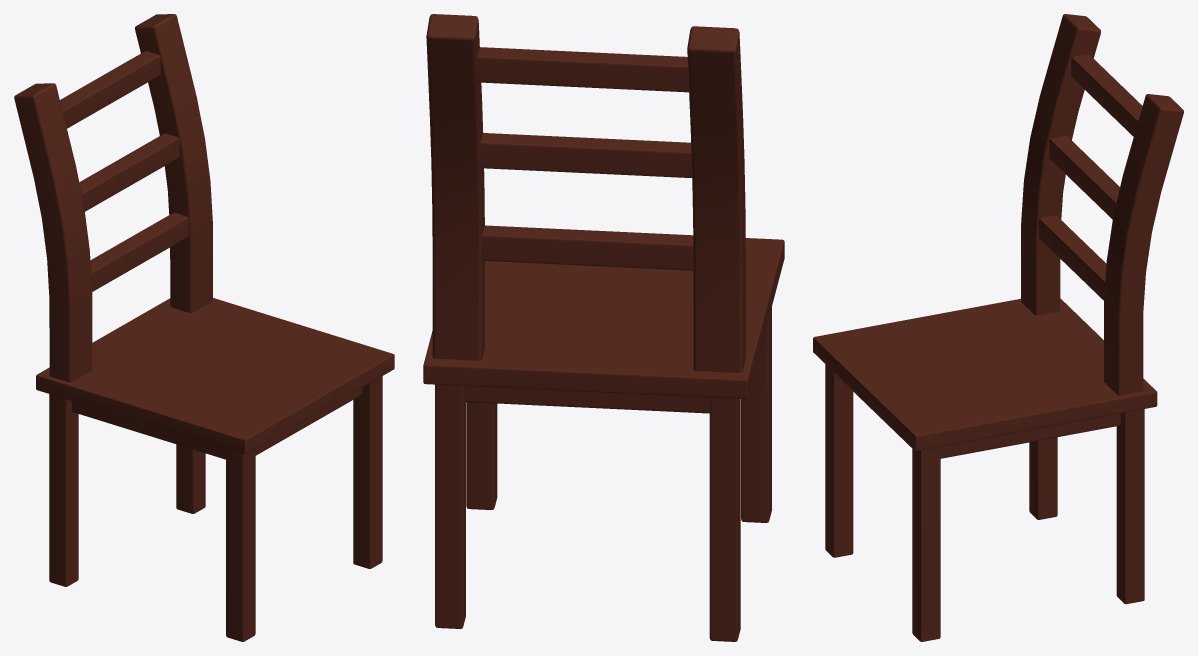
File: Chair.fbx
3 renders of one model, left to right at view 1: azimuth 30°, elevation 25°; view 2: azimuth 150°, elevation 25°; view 3: azimuth 270°, elevation 25°, orthographic. The views are drawn at different scales.
Parts seen in each view (by area): view 1: Chair1; view 2: Chair1; view 3: Chair1.
Boxes of the visible parts, box(x1,y1,x2,y2) form: Chair1: box(14, 14, 394, 641); Chair1: box(423, 14, 784, 641); Chair1: box(813, 14, 1183, 641).
Size of the model in its own units: 306 by 477 by 327.
